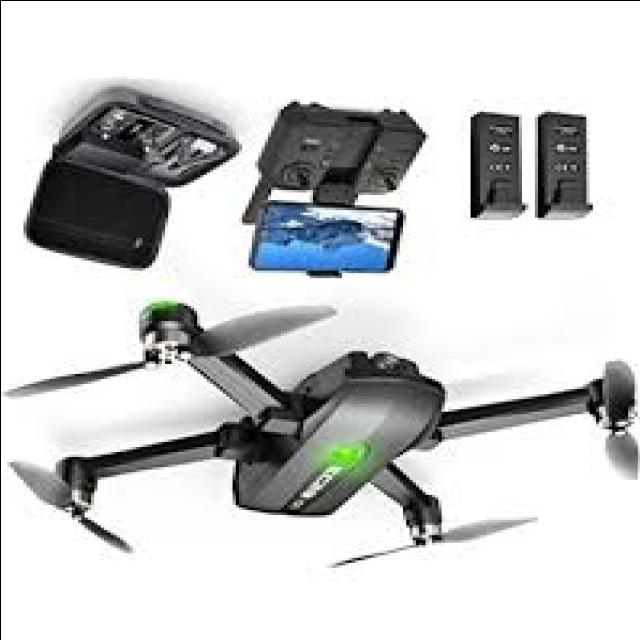drone: (0, 297, 640, 586)
